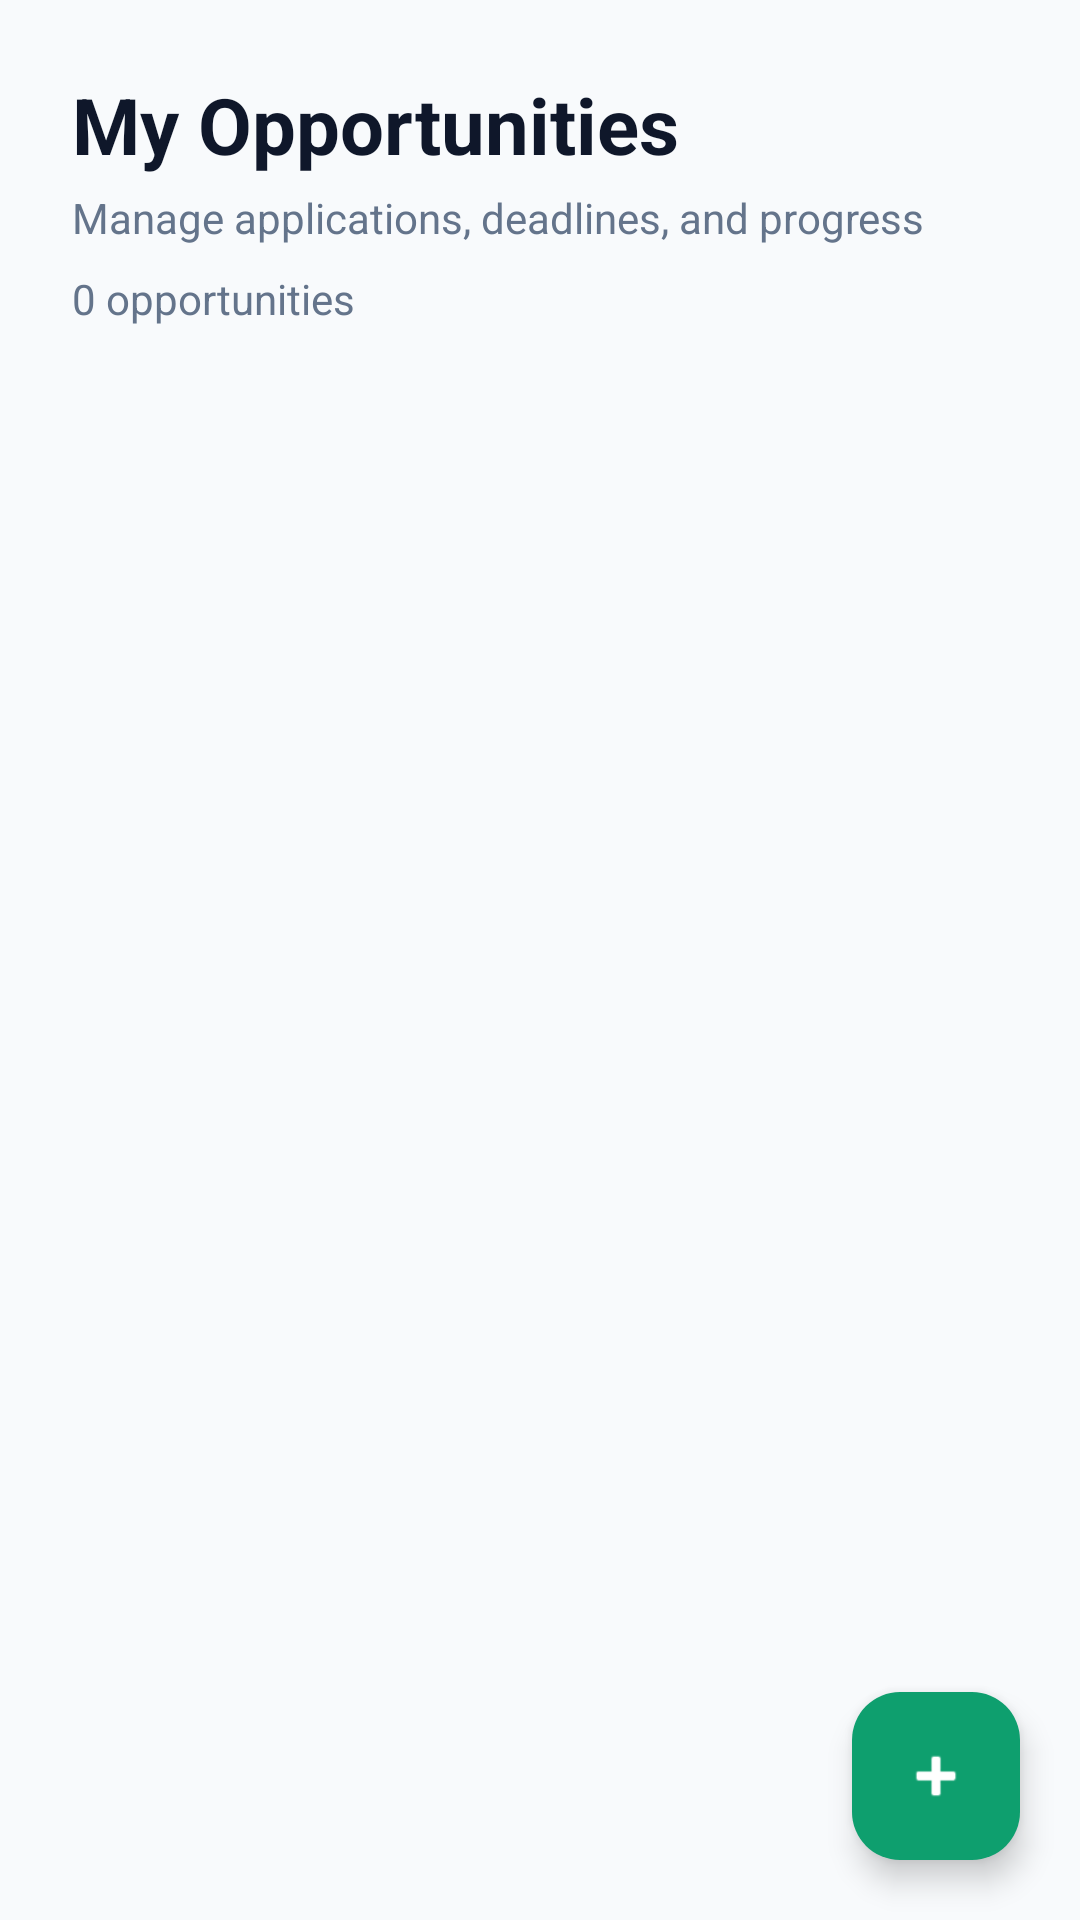

Named icons in this screenshot (1080 x 1920) and their centers, [x,y]:
Add opportunity: [936,1776]
